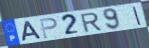2: (60, 13, 84, 37)
9: (103, 8, 122, 32)
A: (21, 20, 43, 43)
I: (132, 6, 143, 26)
P: (38, 17, 59, 40)
R: (79, 12, 104, 34)
